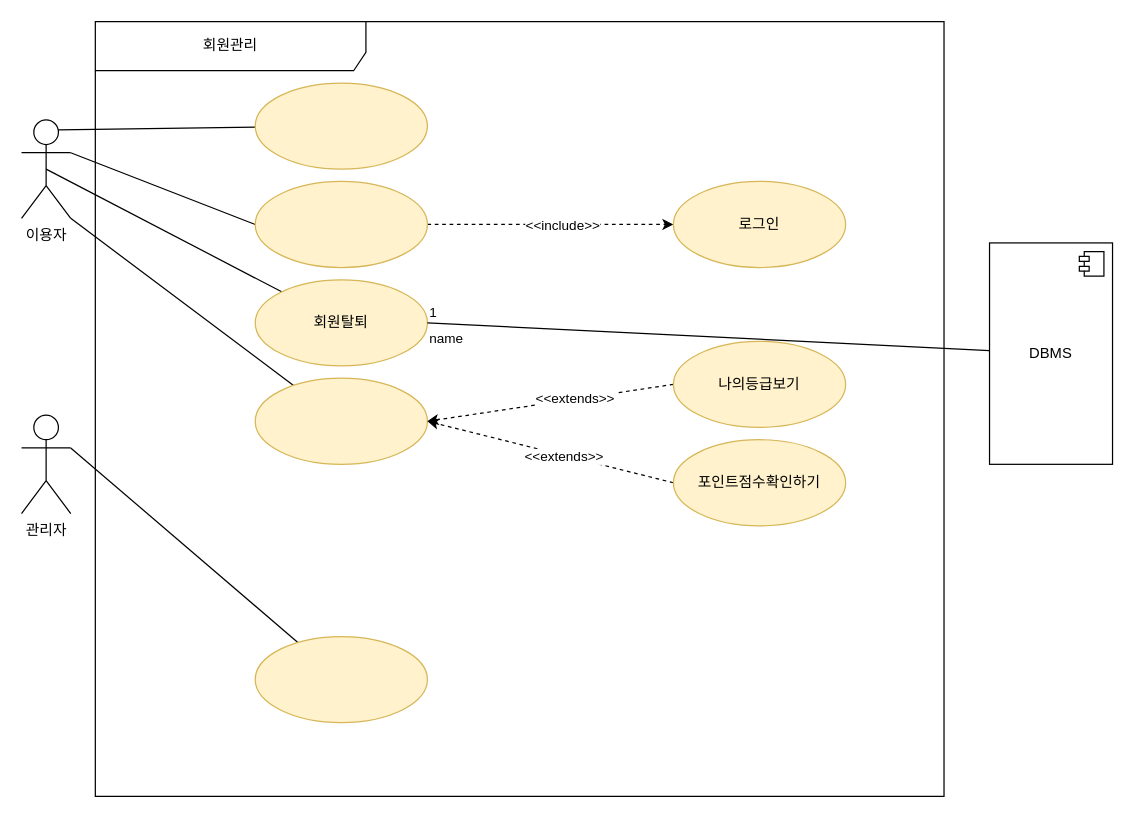
This 1134x818 diagram has some shape labels left out. Here are the shapes that lost their labels. From the top down, the centre of each, then its label:
the point at 340,125: 회원등록
the point at 340,224: 회원정보수정
the point at 340,420: 회원정보보기
the point at 340,679: 회원정보조회
